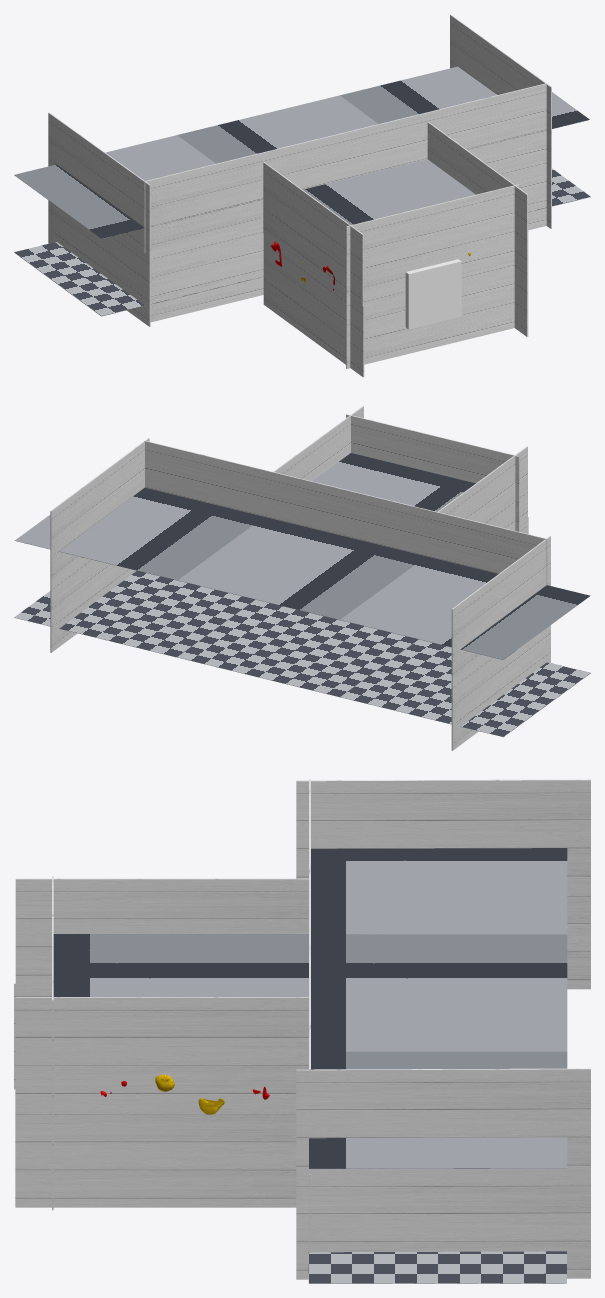
3 renders of one model, top to bottom at view 1: azimuth 30°, elevation 25°; view 2: azimuth 150°, elevation 25°; view 3: azimuth 270°, elevation 25°, orthographic. The views are drawn at different scales.
Parts seen in each view (by area): view 1: Cube.014, Cube.013, Cube.002, Cube.001, Cube.011, Cube.004, Cube.015, Cube.020, Cube.019, Cube.021, Cube.040, Cube.039 (+7 smaller); view 2: Cube.014, Cube.020, Cube.017, Cube.021, Cube.015, Cube.018, Cube.022, Cube.013, Cube.040, Cube.041, Cube.019, Cube.039 (+3 smaller); view 3: Cube.020, Cube.012, Cube.003, Cube.042, Cube.041, Cube.015, Cube.040, Cube.011, Cube.019, Cube.021, Cube.018, Cube.039 (+1 smaller).
Part boxes in pixels (box(x1,y1,x2,y2)): Cube.014: box(144, 83, 546, 252); Cube.013: box(346, 184, 519, 297); Cube.002: box(346, 257, 514, 368); Cube.001: box(150, 224, 263, 322); Cube.011: box(263, 162, 363, 305); Cube.004: box(263, 233, 364, 377); Cube.015: box(14, 135, 262, 238); Cube.020: box(177, 95, 378, 163); Cube.019: box(302, 159, 475, 224); Cube.021: box(340, 66, 589, 149); Cube.040: box(48, 112, 150, 256); Cube.039: box(48, 200, 150, 326); Cube.014: box(144, 440, 547, 585); Cube.020: box(177, 517, 426, 619); Cube.017: box(177, 600, 418, 697); Cube.021: box(14, 487, 263, 580); Cube.015: box(340, 556, 590, 659); Cube.018: box(14, 571, 255, 657); Cube.022: box(340, 639, 590, 736); Cube.013: box(346, 414, 519, 527); Cube.040: box(451, 536, 550, 680); Cube.041: box(50, 438, 149, 582); Cube.019: box(312, 453, 475, 511); Cube.039: box(451, 625, 550, 750); Cube.020: box(311, 934, 567, 1051); Cube.012: box(15, 997, 308, 1102); Cube.003: box(15, 1102, 296, 1207); Cube.042: box(296, 1173, 590, 1279); Cube.041: box(296, 1068, 590, 1174); Cube.015: box(311, 848, 567, 934); Cube.040: box(296, 779, 590, 883); Cube.011: box(15, 878, 308, 984); Cube.019: box(53, 934, 308, 996); Cube.021: box(309, 1051, 567, 1168); Cube.018: box(308, 1251, 566, 1283); Cube.039: box(567, 884, 590, 989).
Bounding box in the file's own units: 9227 × 2728 × 6377.
55 materials, 46 textured.
